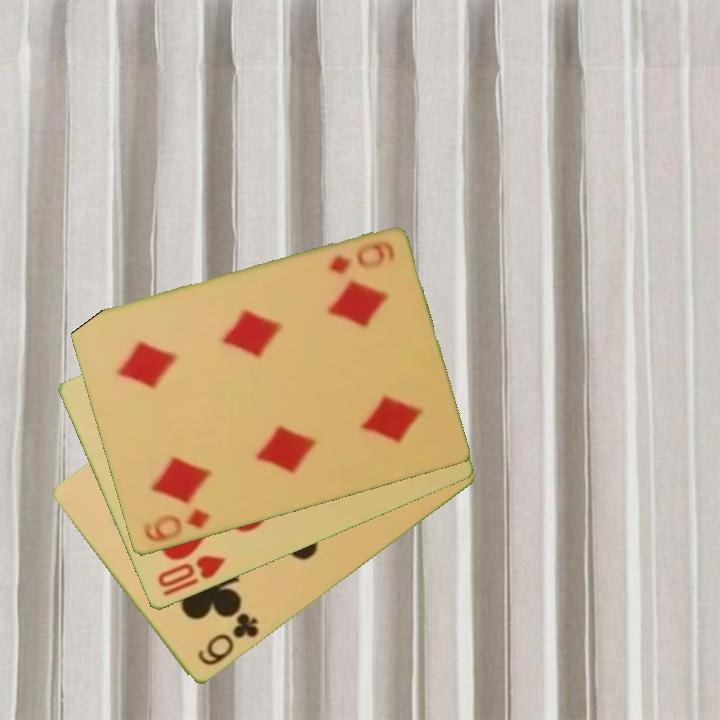10h: (154, 552, 229, 591)
6c: (194, 609, 262, 670)
6d: (140, 505, 212, 546), (325, 239, 387, 279)
